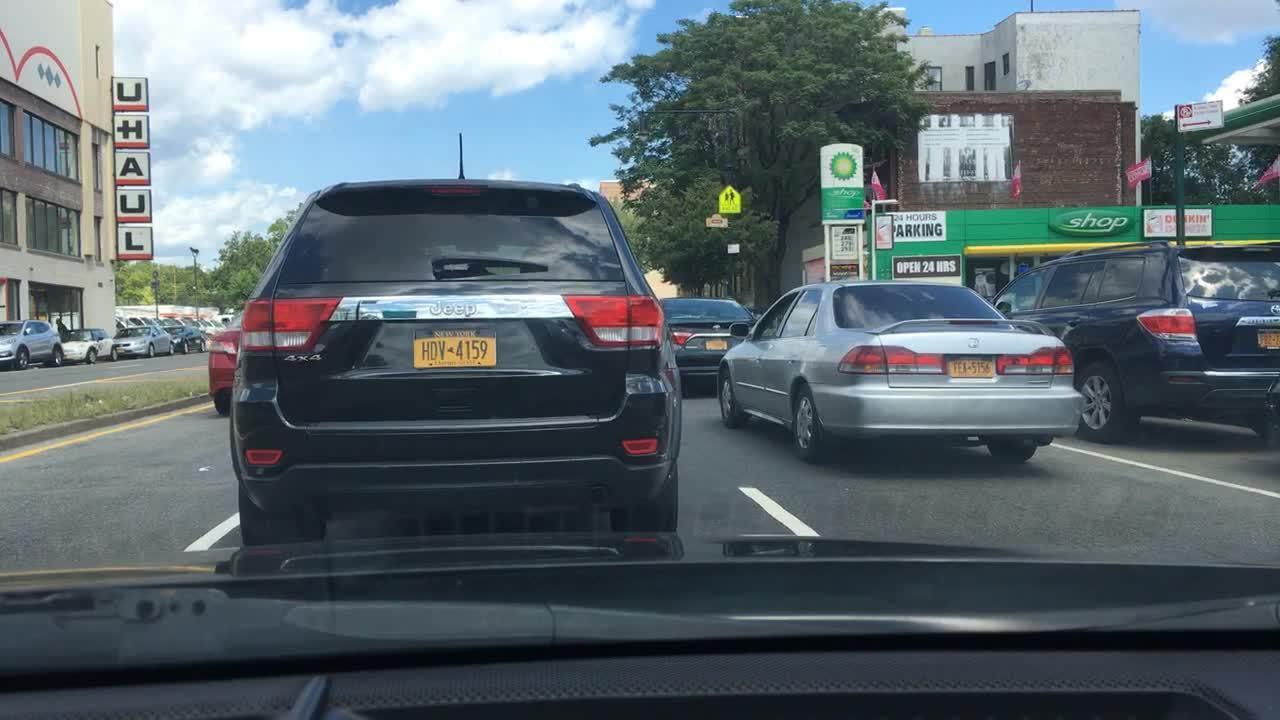Toyota: (964, 334, 984, 351)
jeep: (408, 289, 501, 326)
